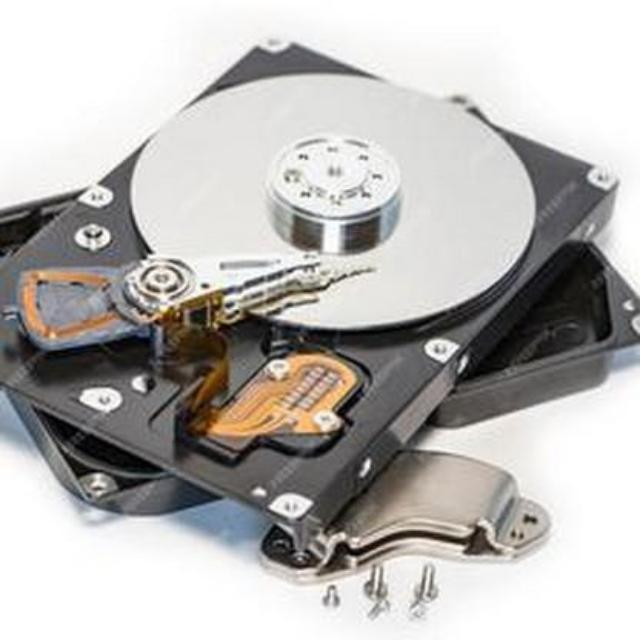DISK: (0, 21, 617, 527)
